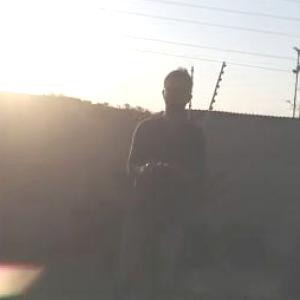follow: (124, 61, 210, 299)
